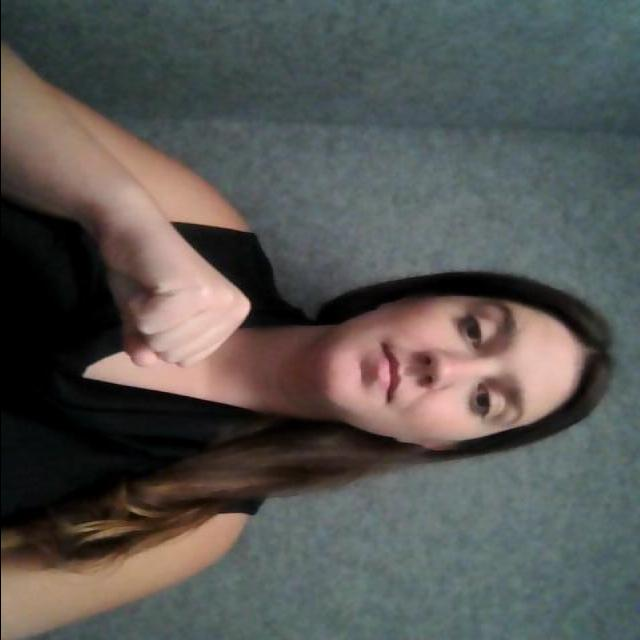Rock: (79, 207, 262, 386)
